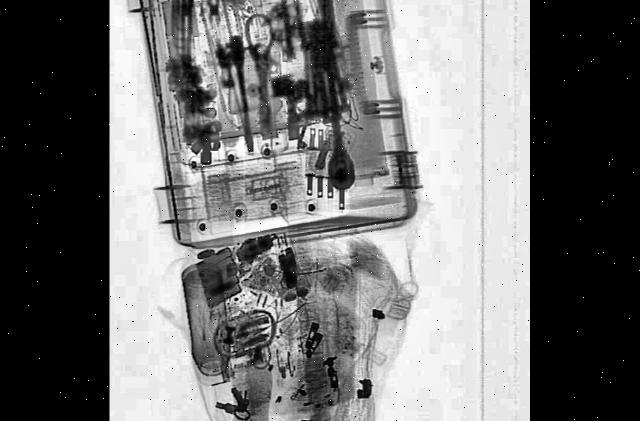Pliers: (195, 0, 234, 26)
